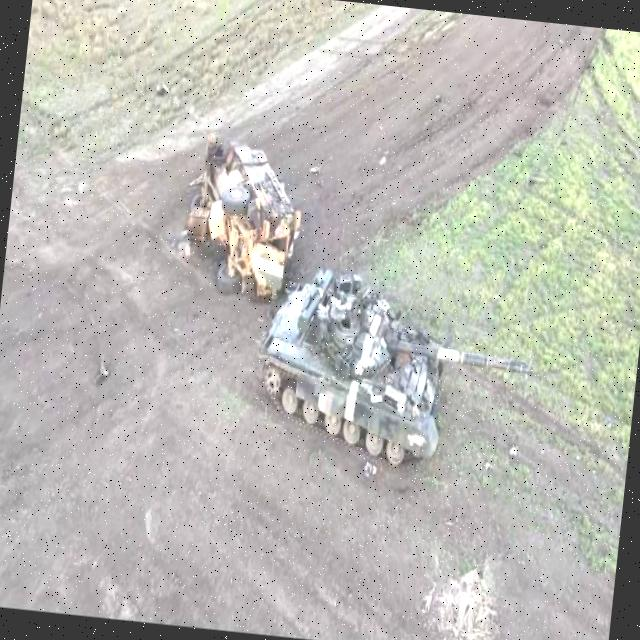Destroyed: (175, 123, 311, 306)
MBT: (247, 262, 544, 486)
